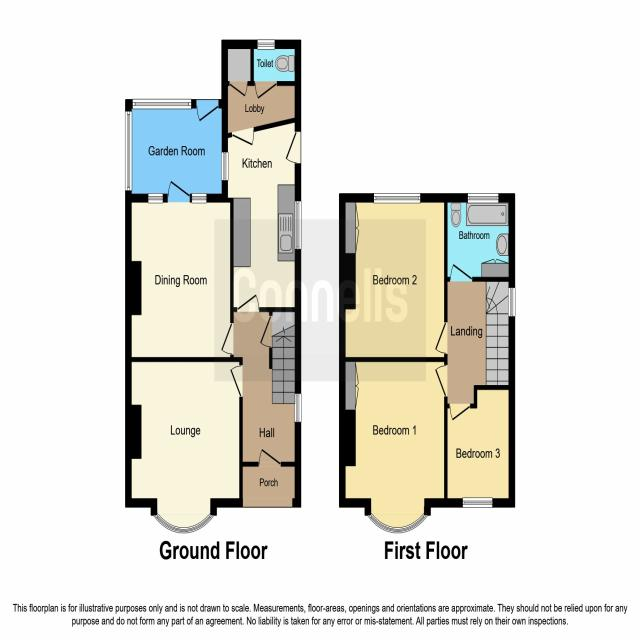DOOR: (167, 180, 190, 203), (285, 131, 301, 164), (433, 321, 448, 355), (229, 364, 243, 399), (253, 81, 277, 101), (434, 364, 448, 398), (220, 322, 234, 356), (231, 127, 254, 147), (449, 263, 473, 282), (236, 293, 260, 312), (258, 448, 281, 467), (449, 403, 471, 421)
ROOM: (125, 357, 243, 534), (124, 179, 234, 362), (339, 357, 448, 534), (339, 193, 448, 362), (221, 116, 301, 312), (444, 385, 516, 508)
WINDOW: (152, 512, 215, 534), (366, 512, 428, 534), (373, 192, 421, 204), (294, 201, 302, 250), (467, 192, 499, 204), (462, 497, 493, 508), (508, 287, 516, 318), (221, 151, 229, 182), (294, 393, 302, 423), (257, 39, 275, 50), (148, 193, 164, 204), (191, 193, 207, 204)
